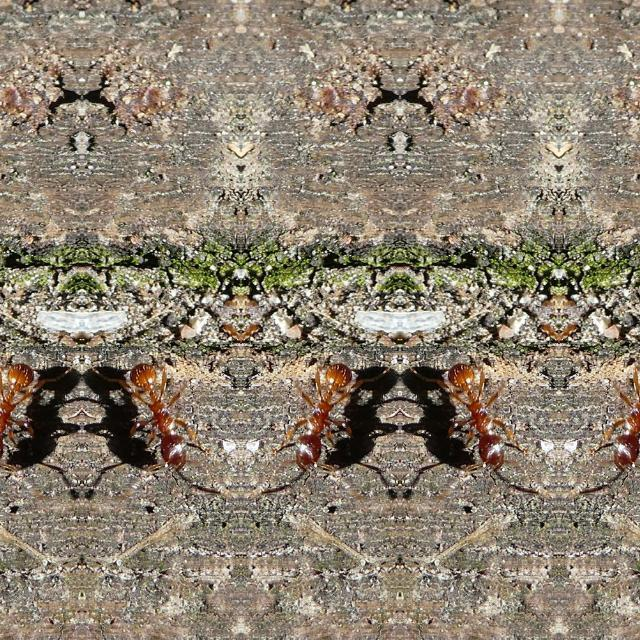Myrmica: (286, 322, 398, 492), (82, 322, 194, 492), (400, 322, 512, 492), (0, 322, 78, 492), (604, 322, 640, 492)
